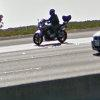Motorcycle: (25, 10, 78, 54)
